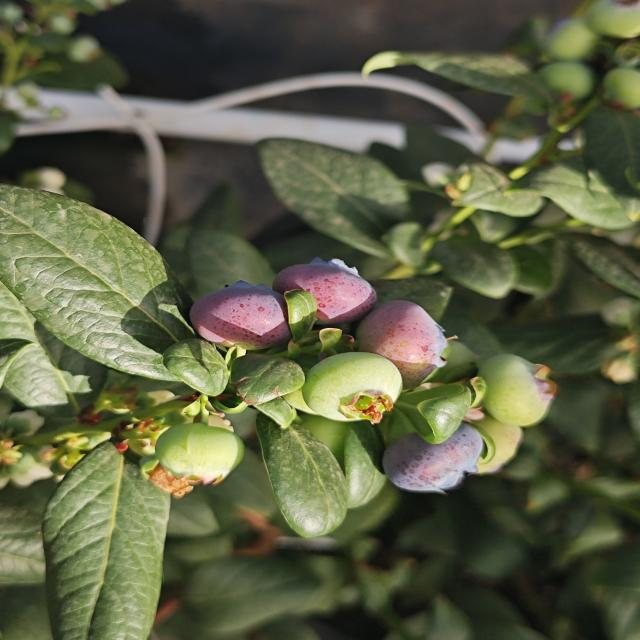ripe: (378, 422, 488, 496)
